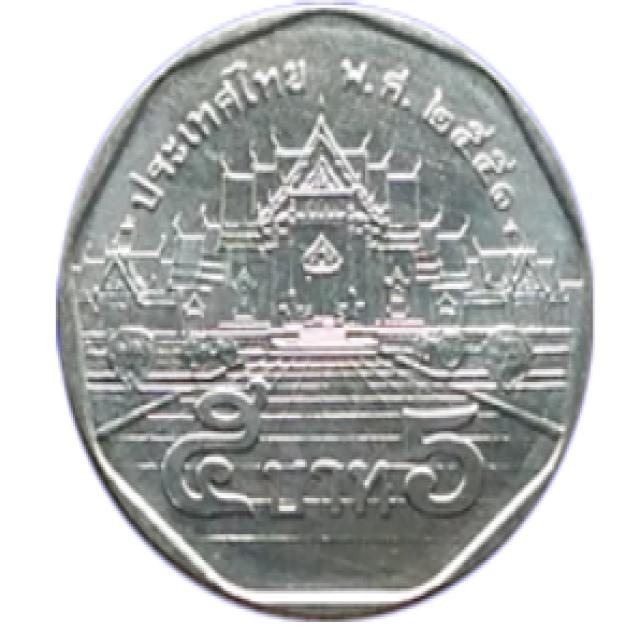5 Bath: (42, 1, 600, 636)
